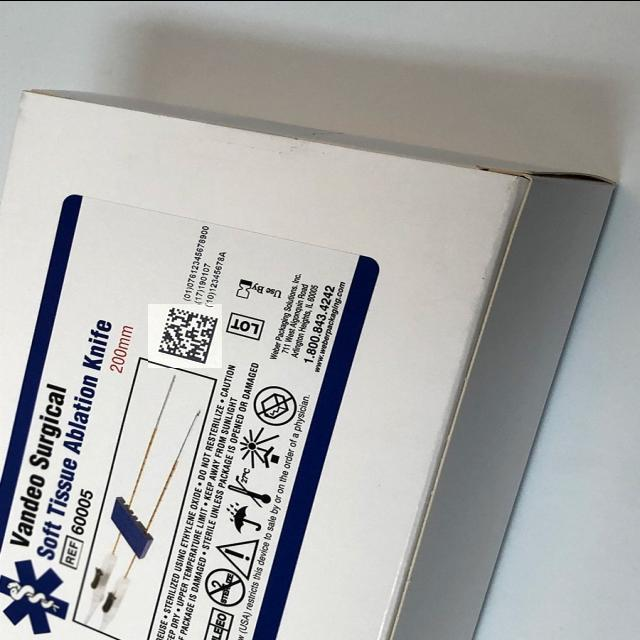Data-Matrix: (148, 303, 222, 367)
